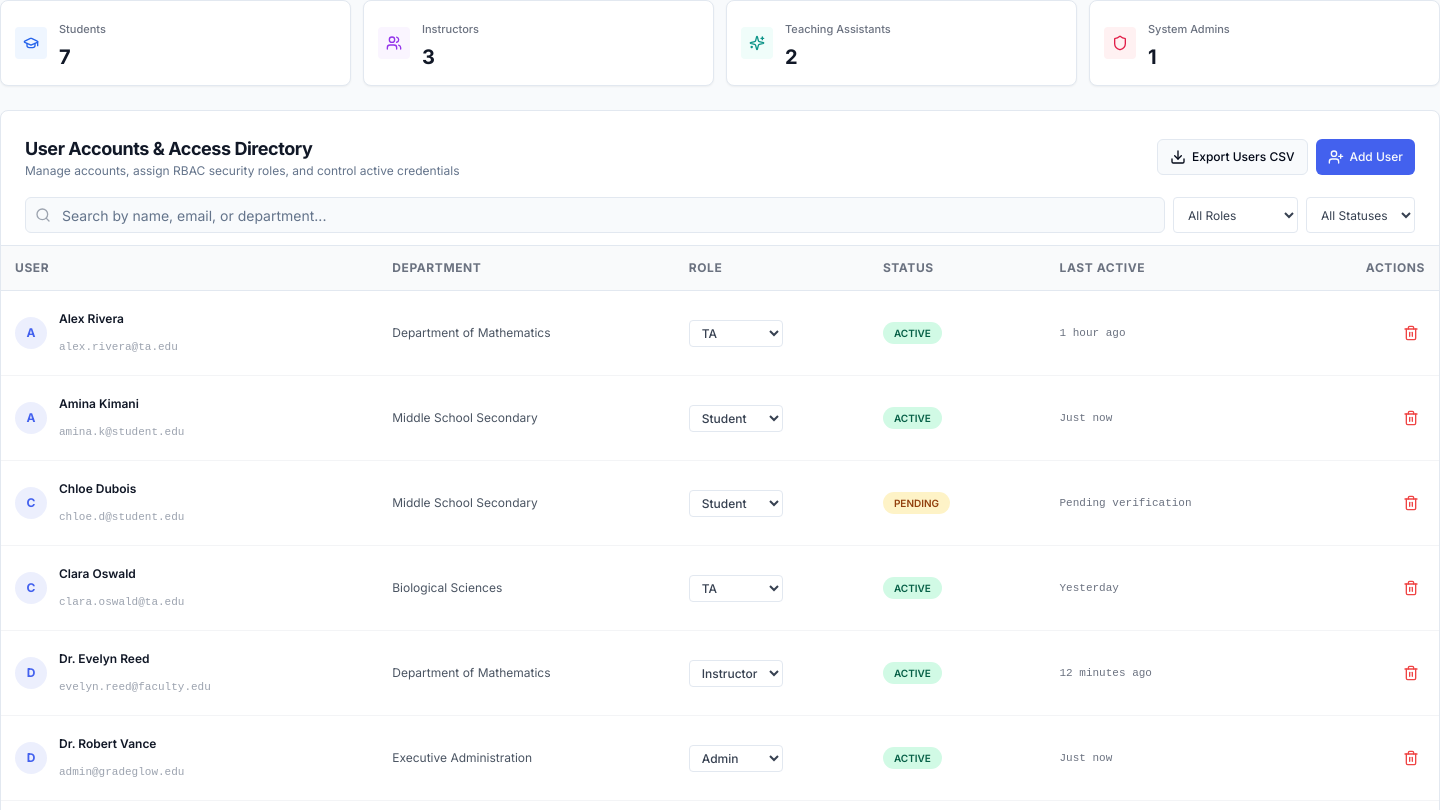
UserManagementTab › shows an empty state when no account matches the search
The width and height of the screenshot is (1440, 810).
Type "zzzz" into the field with placeholder "Search by name, email, or department...".
click(595, 215); type("zzzz")  # box left=25, top=197, right=1165, bottom=233
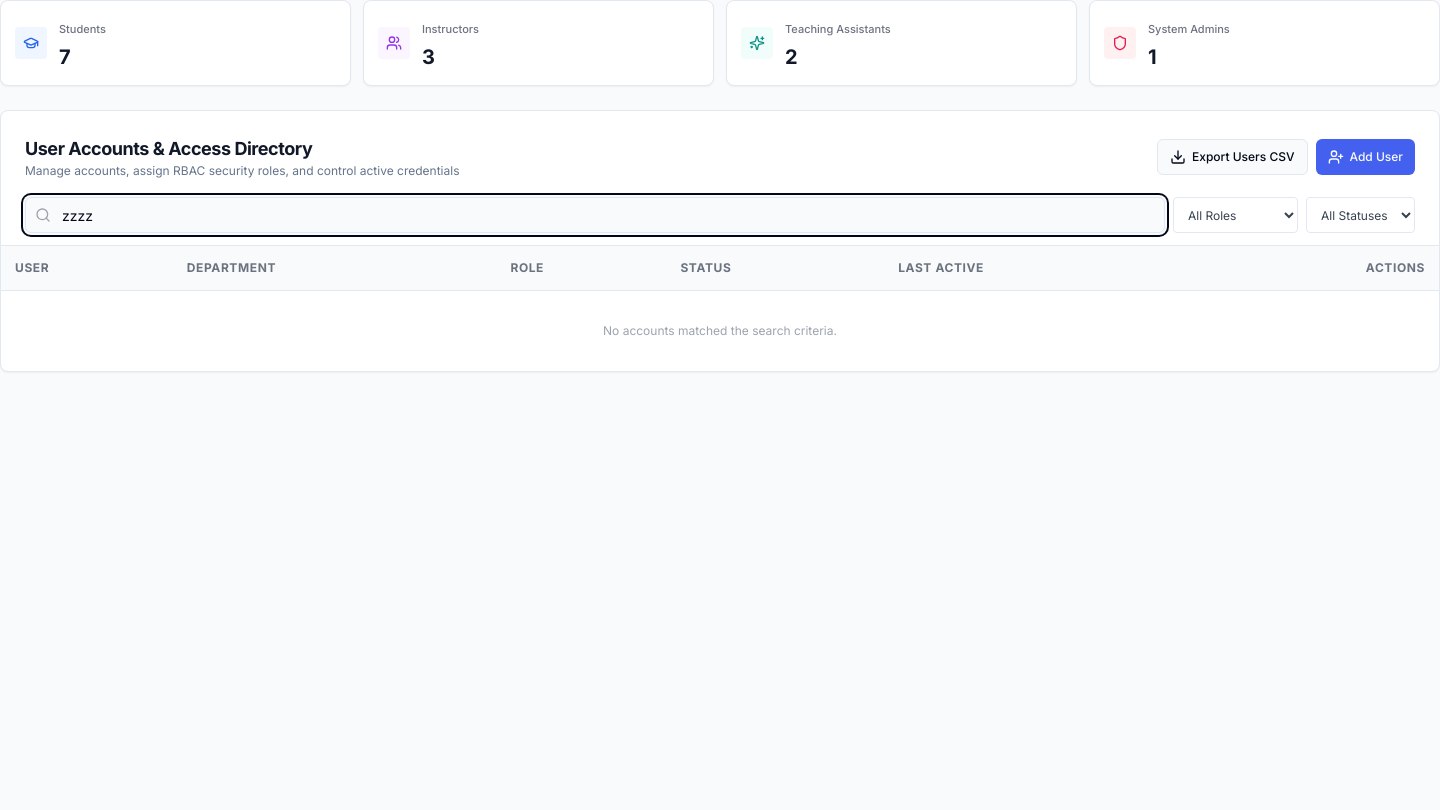
Expected: the text "No accounts matched the search criteria." is shown, left=1, top=290, right=1439, bottom=371
